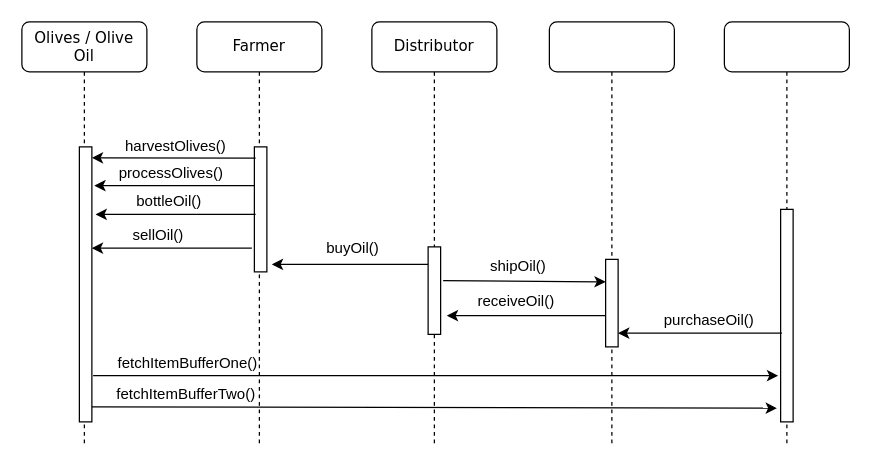
The diagram is 871 pixels wide and 469 high, and some of its shapes have lost their labels. The shapes that lost their labels are listed below. From the top down, each one's centre as x and y in pixels, then its label:
At pixel 611 234: "Retailer".
At pixel 786 234: "Consumer".
